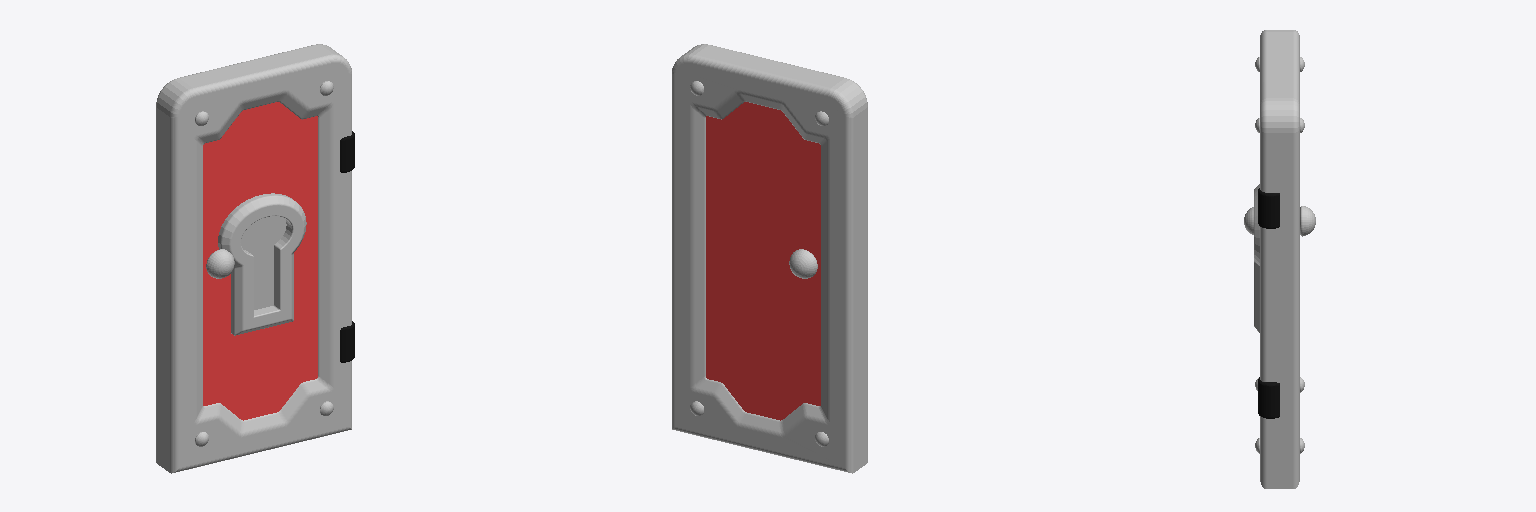
The picture shows the model from 3 angles: view 1: azimuth 30°, elevation 25°; view 2: azimuth 150°, elevation 25°; view 3: azimuth 270°, elevation 25°; orthographic projection.
Parts seen in each view (by area): view 1: Frame, Door, Keyhole, Hole, Hinge, Knob; view 2: Frame, Door, Knob; view 3: Frame, Hinge, Keyhole, Knob.
Part boxes in pixels (bbox=[...]): Frame: bbox=[156, 44, 351, 473]; Door: bbox=[203, 102, 317, 420]; Keyhole: bbox=[218, 193, 306, 335]; Hole: bbox=[241, 216, 286, 309]; Hinge: bbox=[340, 131, 354, 362]; Knob: bbox=[206, 249, 234, 278]; Frame: bbox=[672, 44, 867, 473]; Door: bbox=[706, 102, 820, 420]; Knob: bbox=[789, 249, 817, 278]; Frame: bbox=[1255, 30, 1304, 488]; Hinge: bbox=[1258, 188, 1279, 418]; Keyhole: bbox=[1254, 184, 1259, 332]; Knob: bbox=[1244, 206, 1315, 236].
Size of the model in its own units: 81.6 by 160 by 27.53.
Materials: 4 (1 with a texture image).